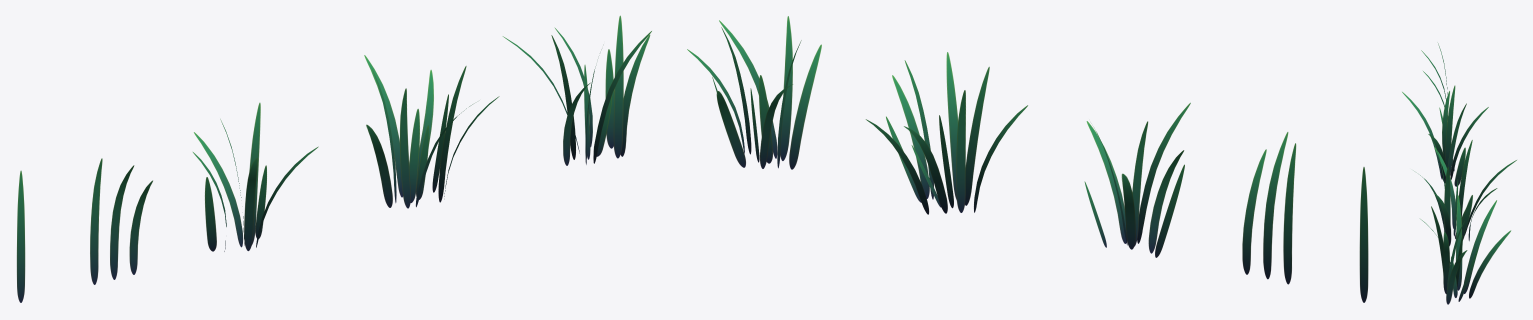
Rendered from grass.gltf.
3 views of the same model, side by side, from view 1: azimuth 30°, elevation 25°; view 2: azimuth 150°, elevation 25°; view 3: azimuth 270°, elevation 25° (orthographic). The views are drawn at different scales.
Visible parts, largest first — view 1: Grass:Grass_low9 (×2), Grass:Grass_low1 (×2), Grass:Grass_low10 (×2), Grass:Grass_Master3 (×2), Grass:Grass_Master, Grass:Grass_low3, Grass:Grass_low6, Grass:Grass_low12, Grass:Grass_low4, Grass:Grass_low7, Grass:Grass_low2, Grass:Grass_Master1 (+6 smaller); view 2: Grass:Grass_low6 (×2), Grass:Grass_low1 (×2), Grass:Grass_low2 (×2), Grass:Grass_low3 (×2), Grass:Grass_low10 (×2), Grass:Grass_low8 (×2), Grass:Grass_low13 (×2), Grass:Grass_low12 (×2), Grass:Grass_Master, Grass:Grass_low11, Grass:Grass_Master1 (×2), Grass:Grass_low9 (×2) (+4 smaller); view 3: Grass:Grass_low11 (×2), Grass:Grass_low12 (×2), Grass:Grass_low7 (×2), Grass:Grass_low13 (×2), Grass:Grass_low9 (×2), Grass:Grass_low8 (×2), Grass:Grass_Master3 (×2), Grass:Grass_low3, Grass:Grass_low5, Grass:Grass_low4, Grass:Grass_low10, Grass:Grass_low14 (+5 smaller).
Boxes of the visible parts, x1=… form: Grass:Grass_low9 (×2): x1=438, y1=15, x2=623, y2=202; Grass:Grass_low1 (×2): x1=110, y1=158, x2=257, y2=279; Grass:Grass_low10 (×2): x1=366, y1=82, x2=590, y2=207; Grass:Grass_Master3 (×2): x1=432, y1=49, x2=614, y2=192; Grass:Grass_Master: x1=16, y1=170, x2=25, y2=302; Grass:Grass_low3: x1=90, y1=158, x2=102, y2=284; Grass:Grass_low6: x1=400, y1=88, x2=410, y2=208; Grass:Grass_low12: x1=364, y1=55, x2=402, y2=197; Grass:Grass_low4: x1=194, y1=132, x2=243, y2=247; Grass:Grass_low7: x1=620, y1=35, x2=650, y2=156; Grass:Grass_low2: x1=129, y1=180, x2=152, y2=274; Grass:Grass_Master1: x1=409, y1=109, x2=419, y2=202; Grass:Grass_low6 (×2): x1=780, y1=16, x2=989, y2=205; Grass:Grass_low1 (×2): x1=1137, y1=102, x2=1288, y2=279; Grass:Grass_low2 (×2): x1=1086, y1=121, x2=1266, y2=274; Grass:Grass_low3 (×2): x1=1132, y1=121, x2=1296, y2=284; Grass:Grass_low10 (×2): x1=789, y1=44, x2=1027, y2=212; Grass:Grass_low8 (×2): x1=719, y1=20, x2=958, y2=199; Grass:Grass_low13 (×2): x1=716, y1=91, x2=928, y2=214; Grass:Grass_low12 (×2): x1=760, y1=84, x2=947, y2=213; Grass:Grass_Master: x1=1359, y1=167, x2=1368, y2=302; Grass:Grass_low11: x1=956, y1=90, x2=965, y2=212; Grass:Grass_Master1 (×2): x1=759, y1=75, x2=953, y2=208; Grass:Grass_low9 (×2): x1=721, y1=27, x2=933, y2=199; Grass:Grass_low11 (×2): x1=1456, y1=140, x2=1472, y2=290; Grass:Grass_low12 (×2): x1=1464, y1=160, x2=1516, y2=293; Grass:Grass_low7 (×2): x1=1434, y1=193, x2=1467, y2=304; Grass:Grass_low13 (×2): x1=1468, y1=188, x2=1510, y2=298; Grass:Grass_low9 (×2): x1=1444, y1=166, x2=1464, y2=292; Grass:Grass_low8 (×2): x1=1413, y1=170, x2=1449, y2=293; Grass:Grass_Master3 (×2): x1=1458, y1=195, x2=1478, y2=301; Grass:Grass_low3: x1=1445, y1=85, x2=1455, y2=168; Grass:Grass_low5: x1=1447, y1=103, x2=1466, y2=175; Grass:Grass_low4: x1=1450, y1=107, x2=1488, y2=179; Grass:Grass_low10: x1=1434, y1=147, x2=1455, y2=228; Grass:Grass_low14: x1=1442, y1=91, x2=1449, y2=158.
Size of the model in its own units: 68.14 by 13.82 by 16.05.
Materials: 1 (1 with a texture image).
